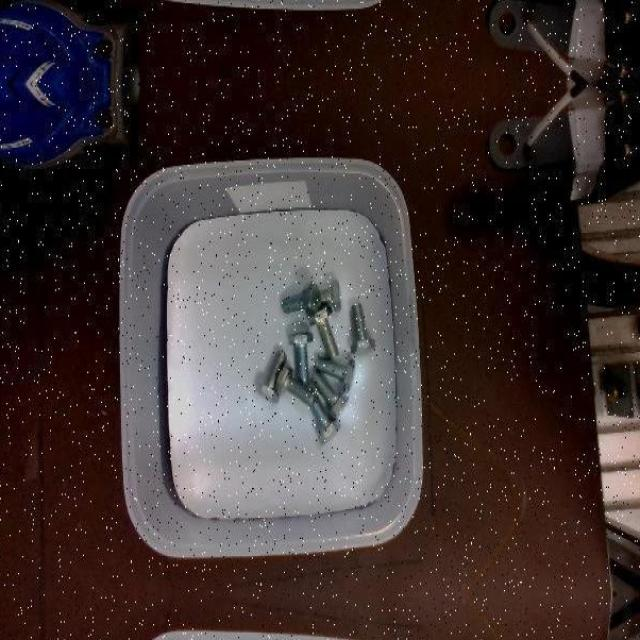screw: (310, 372, 350, 421), (274, 365, 316, 407), (308, 305, 339, 361), (255, 349, 287, 402), (316, 355, 355, 391), (282, 282, 321, 316), (351, 302, 376, 354)
